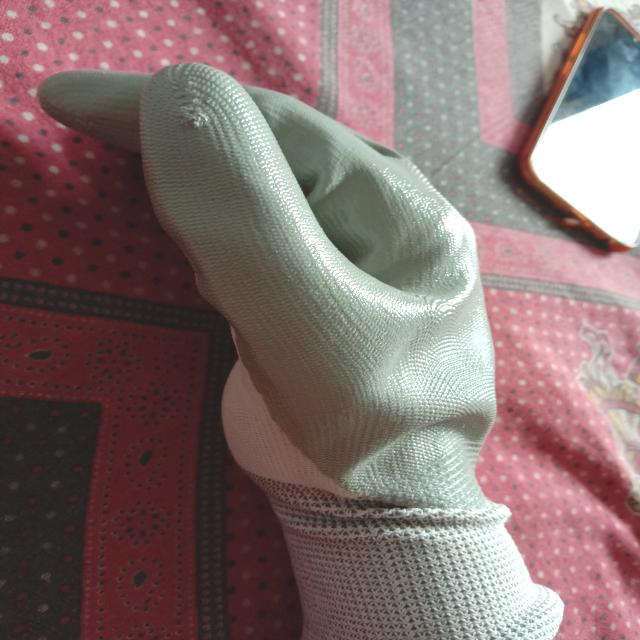glove: (29, 62, 583, 640)
